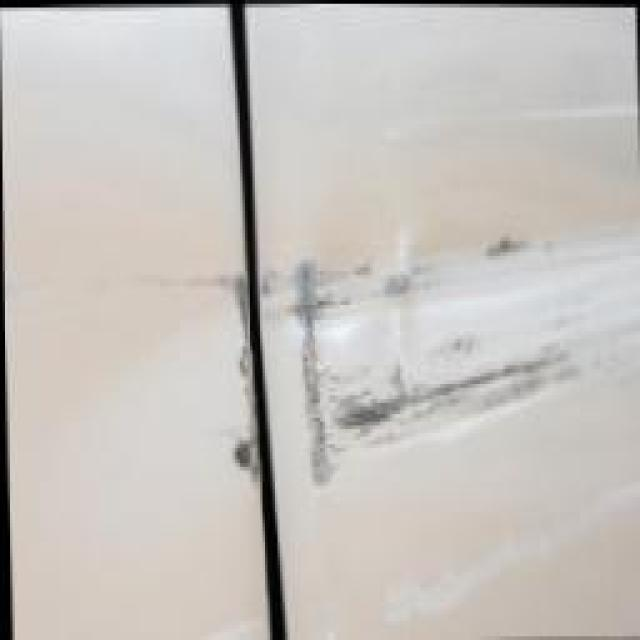Door: (262, 136, 640, 560), (135, 264, 253, 502)
